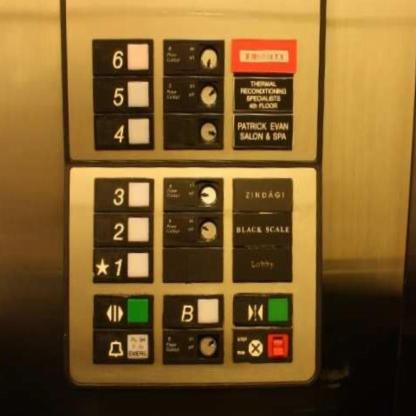2: (92, 210, 153, 247)
3: (92, 176, 154, 213)
4: (92, 112, 155, 151)
5: (91, 72, 154, 115)
6: (92, 38, 154, 75)
B: (160, 292, 224, 330)
alarm: (92, 326, 155, 365)
close: (230, 290, 294, 328)
empty: (160, 246, 224, 284)
keyhole: (161, 210, 224, 248), (160, 328, 223, 366), (161, 113, 224, 150), (161, 76, 224, 113), (162, 38, 224, 75), (161, 175, 224, 211)
open: (91, 293, 155, 331)
s1: (91, 246, 153, 284)
stop: (232, 325, 294, 364)
